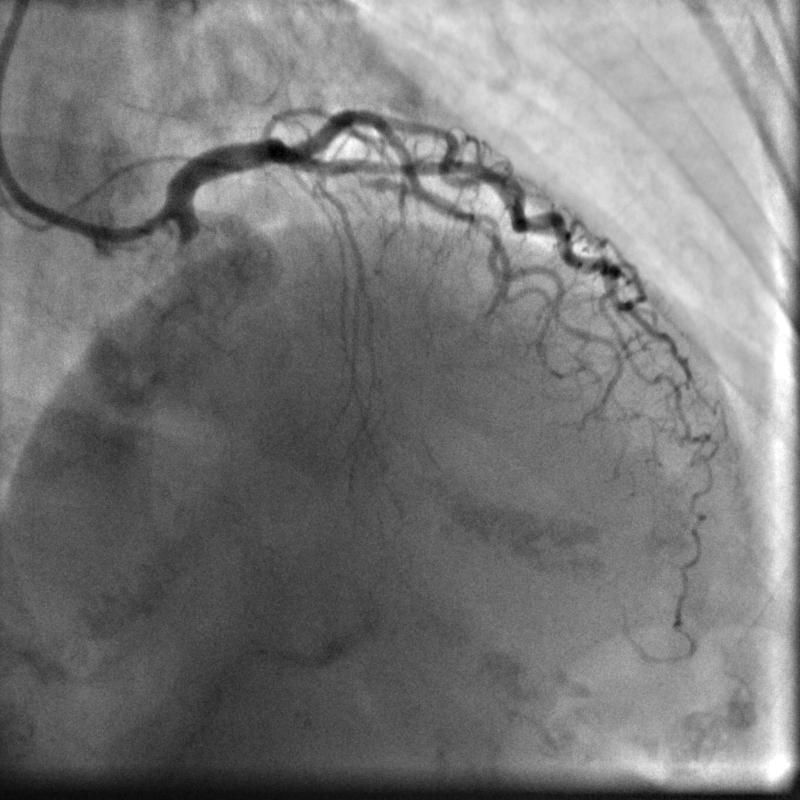Stenosis: (355, 171, 387, 187)
